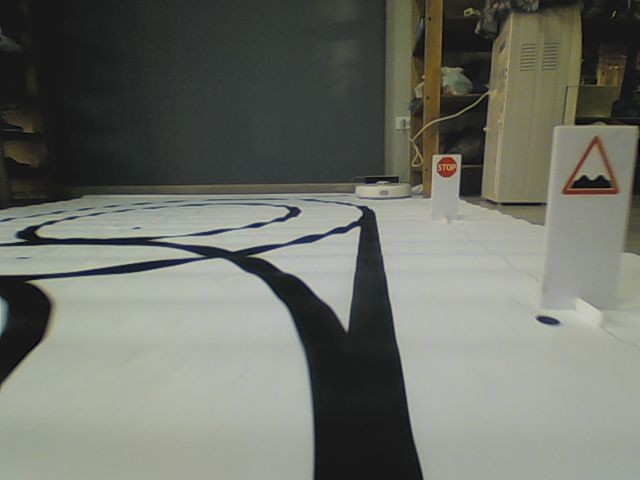Stop: (434, 156, 457, 179)
